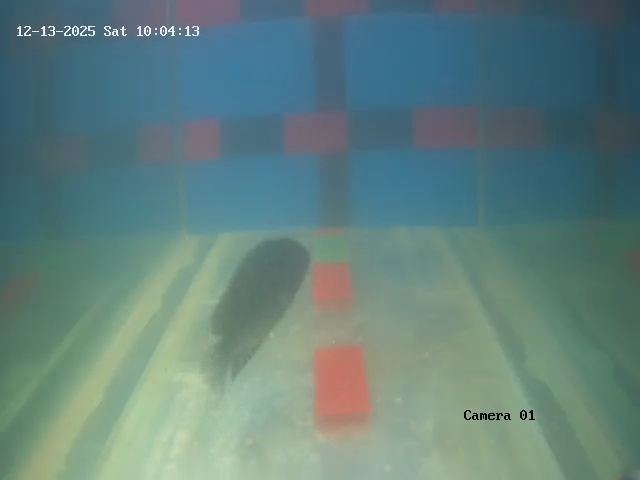fish: (211, 232, 314, 373)
